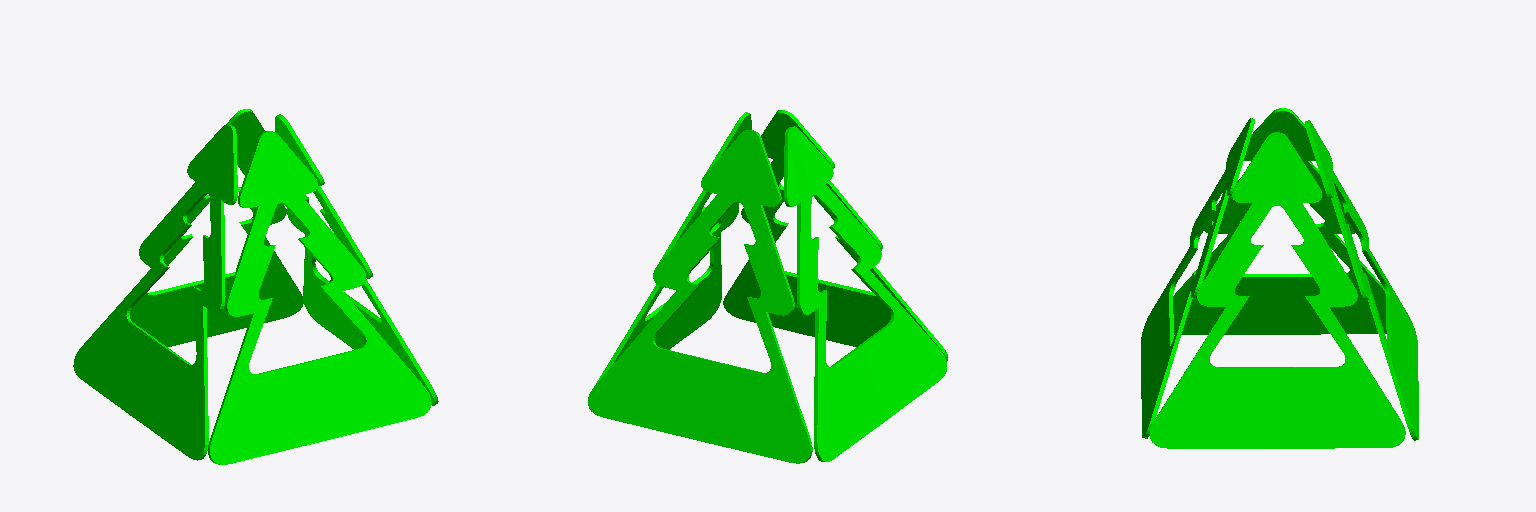
The model's file is Tree.obj.
3 renders of one model, left to right at view 1: azimuth 30°, elevation 25°; view 2: azimuth 150°, elevation 25°; view 3: azimuth 270°, elevation 25°, orthographic.
Visible parts, largest first — view 1: Tree; view 2: Tree; view 3: Tree.
Boxes of the visible parts, box(x1,y1,x2,y2) form: Tree: box(73, 109, 438, 464); Tree: box(588, 110, 947, 463); Tree: box(1141, 108, 1418, 448).
Size of the model in its own units: 5.57 by 5.98 by 5.57.